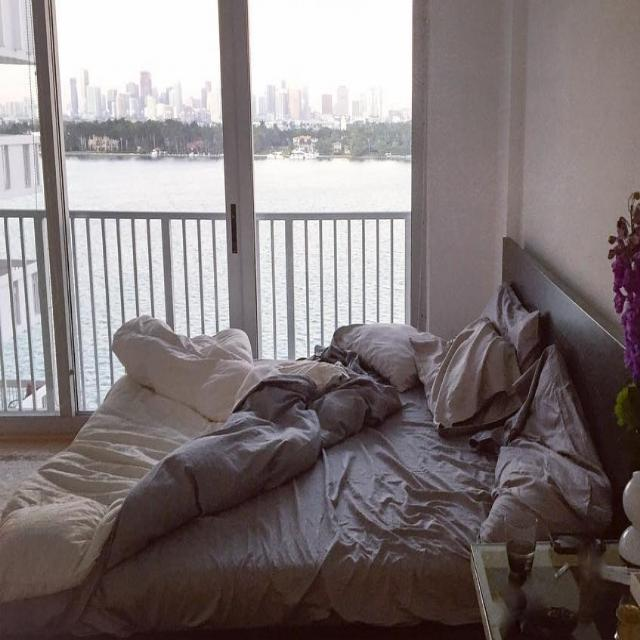bed: (48, 253, 622, 583)
